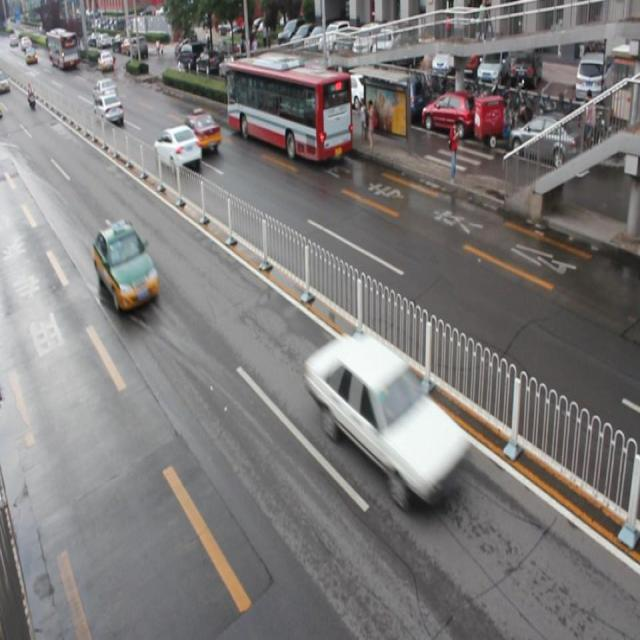car: (307, 332, 468, 504), (92, 219, 160, 312), (154, 123, 201, 173), (180, 110, 222, 156)
van: (226, 58, 352, 162)
